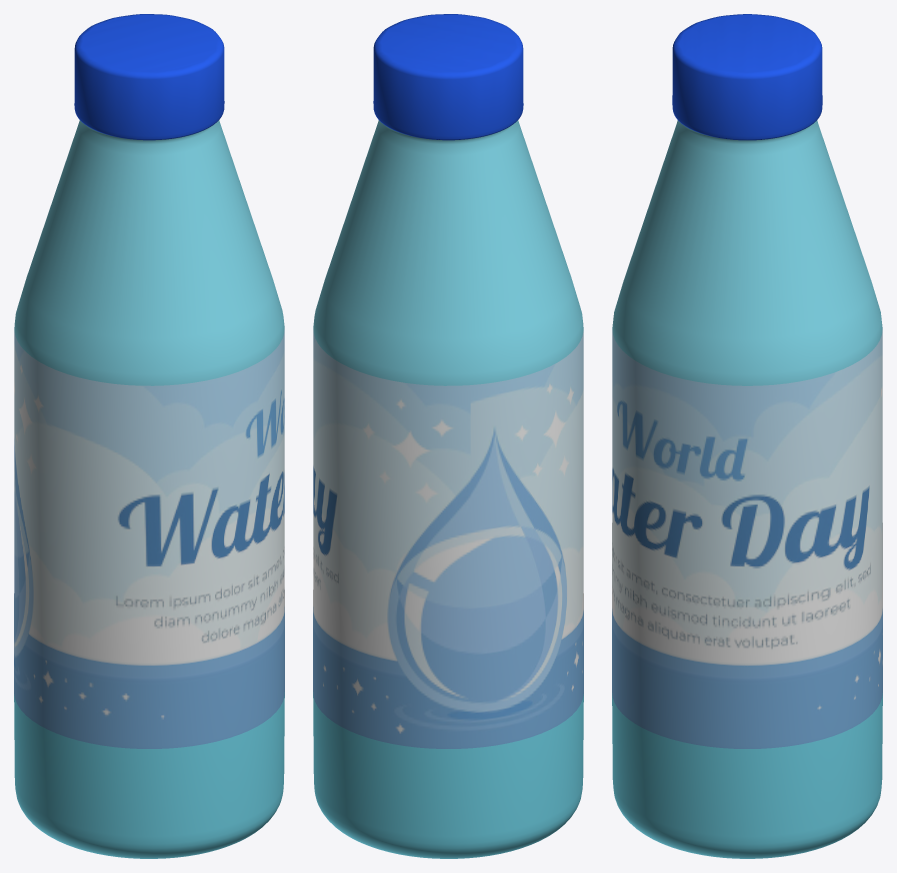
3 renders of one model, left to right at view 1: azimuth 30°, elevation 25°; view 2: azimuth 150°, elevation 25°; view 3: azimuth 270°, elevation 25°, orthographic.
Visible parts, largest first — view 1: Water Bottle; view 2: Water Bottle; view 3: Water Bottle.
Part boxes in pixels (x1=…): Water Bottle: x1=14, y1=14, x2=284, y2=858; Water Bottle: x1=313, y1=14, x2=583, y2=858; Water Bottle: x1=612, y1=14, x2=882, y2=858.
Size of the model in its own units: 0.1949 by 0.6107 by 0.1949.
2 materials, 2 textured.
